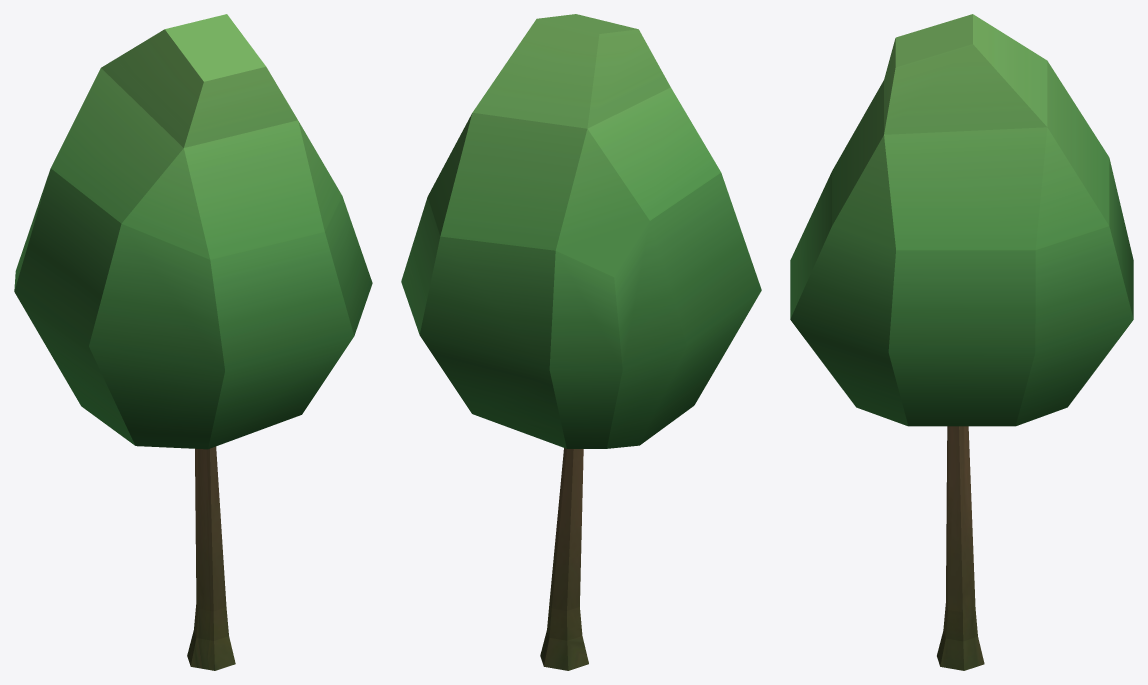
File: TER_TreeNormal_Sml.glb
The picture shows the model from 3 angles, left to right: view 1: azimuth 30°, elevation 25°; view 2: azimuth 150°, elevation 25°; view 3: azimuth 270°, elevation 25°; orthographic projection. The views are drawn at different scales.
Parts seen in each view (by area): view 1: TER_TreeNormal_Sml; view 2: TER_TreeNormal_Sml; view 3: TER_TreeNormal_Sml.
Part boxes in pixels (x1,y1,x2,y2): TER_TreeNormal_Sml: (14, 14, 372, 670); TER_TreeNormal_Sml: (401, 14, 761, 670); TER_TreeNormal_Sml: (790, 14, 1133, 670).
Bounding box in the file's own units: 5.5 × 11.77 × 5.85.
Materials: 1 (1 with a texture image).
